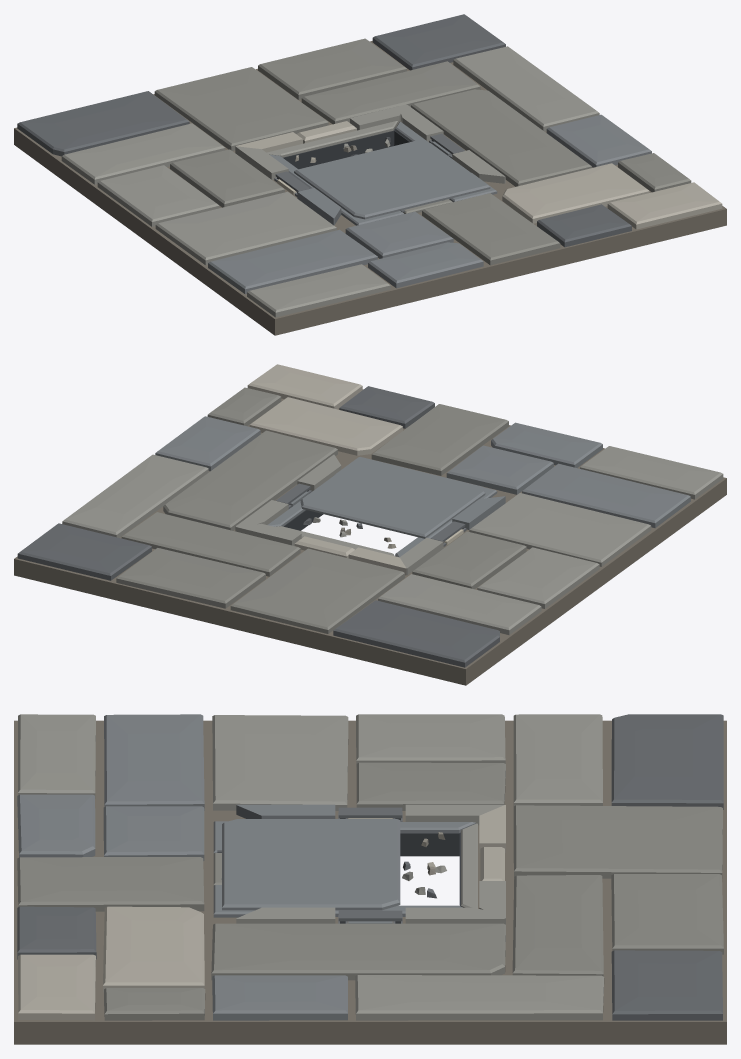
The model's file is SM_LPD_Floor_PavingHatchLidded_01.fbx.
3 renders of one model, top to bottom at view 1: azimuth 30°, elevation 25°; view 2: azimuth 150°, elevation 25°; view 3: azimuth 270°, elevation 25°, orthographic. The views are drawn at different scales.
Visible parts, largest first — view 1: SM_LPD_Floor_PavingHatchLidded_01; view 2: SM_LPD_Floor_PavingHatchLidded_01; view 3: SM_LPD_Floor_PavingHatchLidded_01.
Boxes of the visible parts, <box> form: SM_LPD_Floor_PavingHatchLidded_01: <box>14,14,726,335</box>; SM_LPD_Floor_PavingHatchLidded_01: <box>14,364,726,685</box>; SM_LPD_Floor_PavingHatchLidded_01: <box>14,714,726,1044</box>.
Bounding box in the file's own units: 4 × 0.2 × 4.
